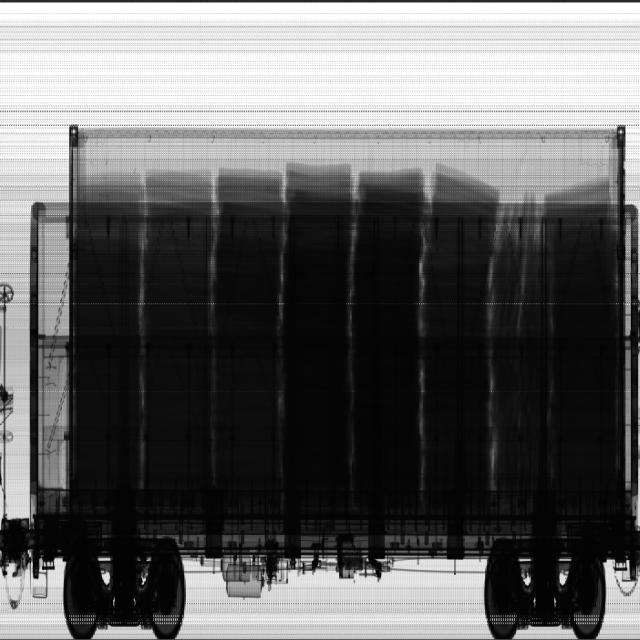fabrics: (75, 162, 497, 488)
